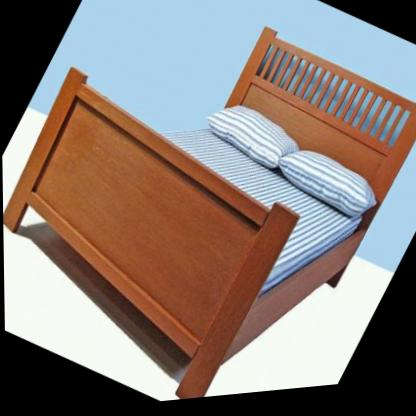Bed: (2, 33, 416, 403)
